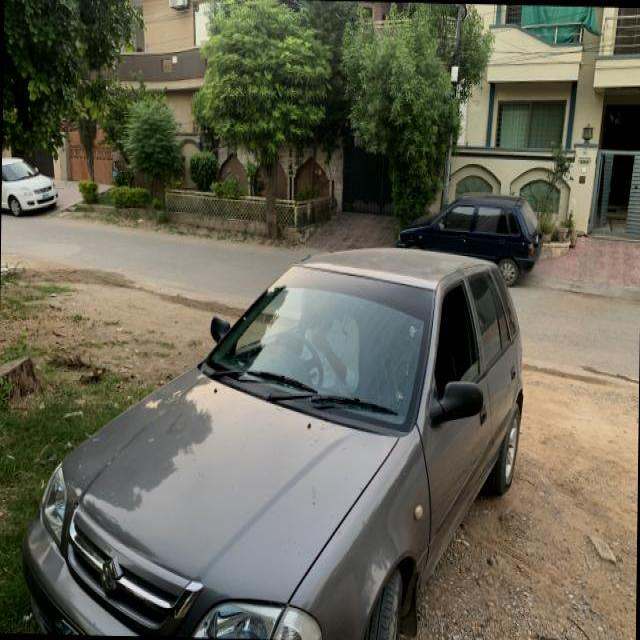no-seatbelt: (303, 311, 365, 382)
